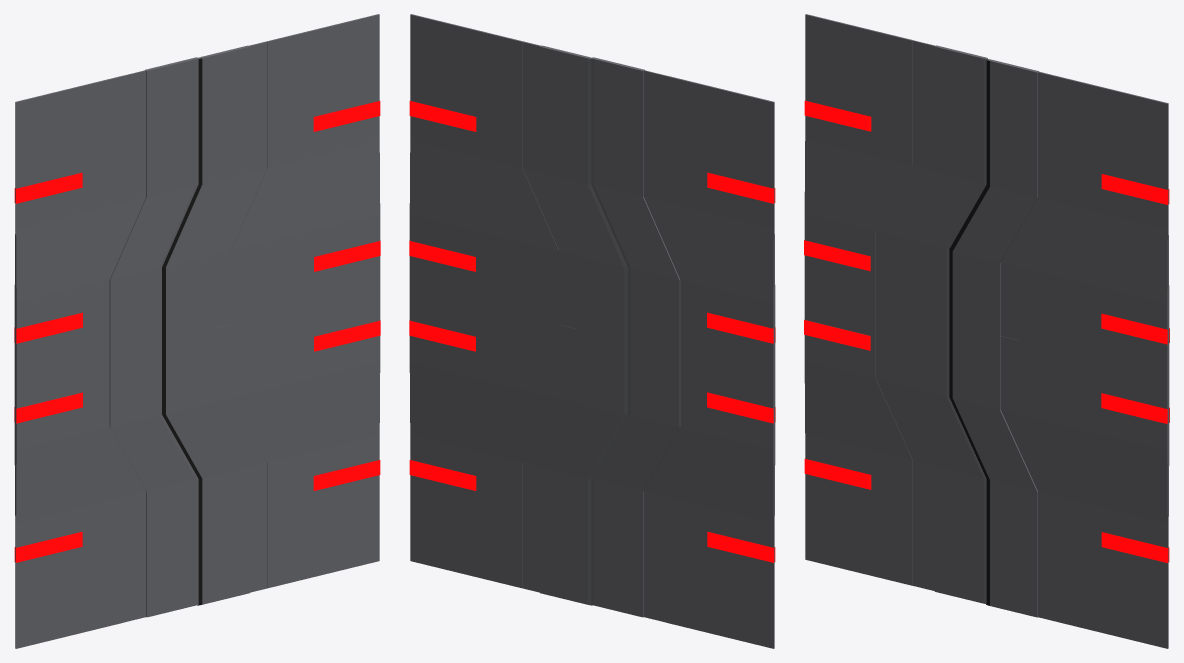
The model's file is door.glb.
3 renders of one model, left to right at view 1: azimuth 30°, elevation 25°; view 2: azimuth 150°, elevation 25°; view 3: azimuth 330°, elevation 25°, orthographic.
Parts seen in each view (by area): view 1: door_1_left.001, door_1_left.003; view 2: door_1_left.001, door_1_left.003; view 3: door_1_left.001, door_1_left.003.
Part boxes in pixels (box(x1,y1,x2,y2)): door_1_left.001: box(166, 14, 380, 604); door_1_left.003: box(14, 48, 239, 648); door_1_left.001: box(409, 14, 623, 604); door_1_left.003: box(550, 48, 775, 648); door_1_left.001: box(952, 61, 1169, 648); door_1_left.003: box(804, 14, 1032, 605).
Size of what is drawn, in the model's own units: 2.69 by 3.86 by 0.036.
